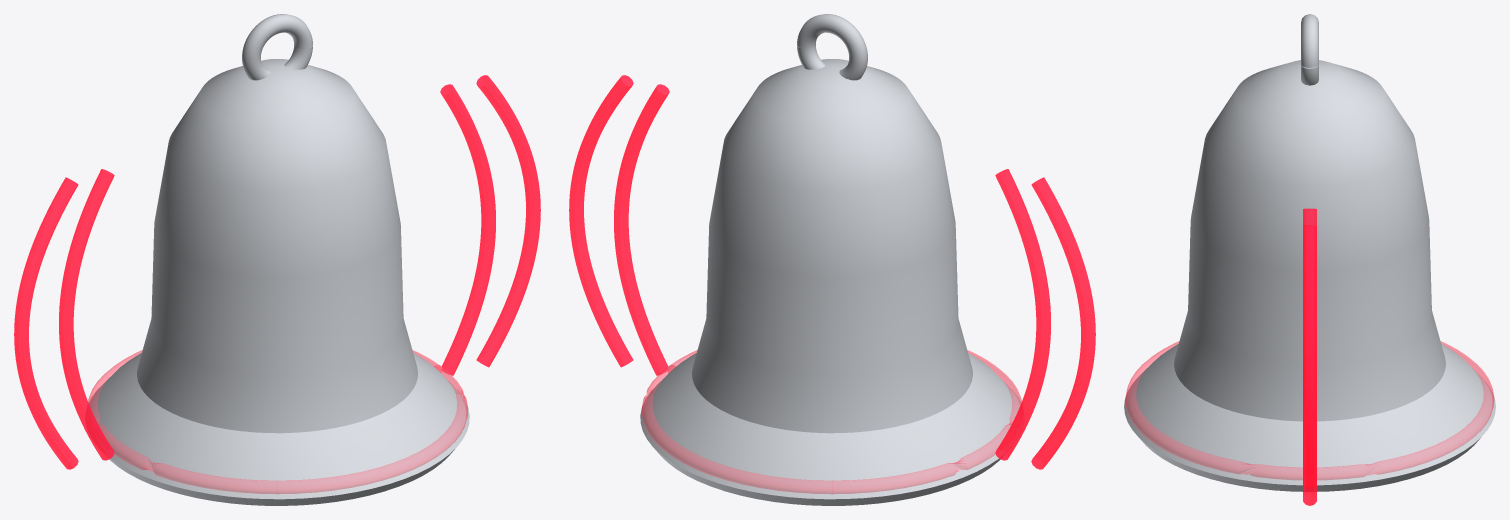
Rendered from 40-alert.glb.
3 renders of one model, left to right at view 1: azimuth 30°, elevation 25°; view 2: azimuth 150°, elevation 25°; view 3: azimuth 270°, elevation 25°, orthographic. The views are drawn at different scales.
Parts seen in each view (by area): view 1: BC satin silver metal, BC neon red glass edge, BC ruby optical glass; view 2: BC satin silver metal, BC neon red glass edge, BC ruby optical glass; view 3: BC satin silver metal, BC ruby optical glass, BC neon red glass edge.
Boxes of the visible parts, left/top/right/bottom form: BC satin silver metal: left=89, top=14, right=469, bottom=505; BC neon red glass edge: left=14, top=75, right=540, bottom=469; BC ruby optical glass: left=88, top=350, right=468, bottom=493; BC satin silver metal: left=640, top=14, right=1020, bottom=505; BC neon red glass edge: left=569, top=75, right=1095, bottom=469; BC ruby optical glass: left=641, top=350, right=1021, bottom=493; BC satin silver metal: left=1124, top=14, right=1495, bottom=491; BC ruby optical glass: left=1125, top=341, right=1494, bottom=479; BC neon red glass edge: left=1303, top=208, right=1316, bottom=505.
Size of the model in its own units: 2.11 by 1.78 by 1.34.
